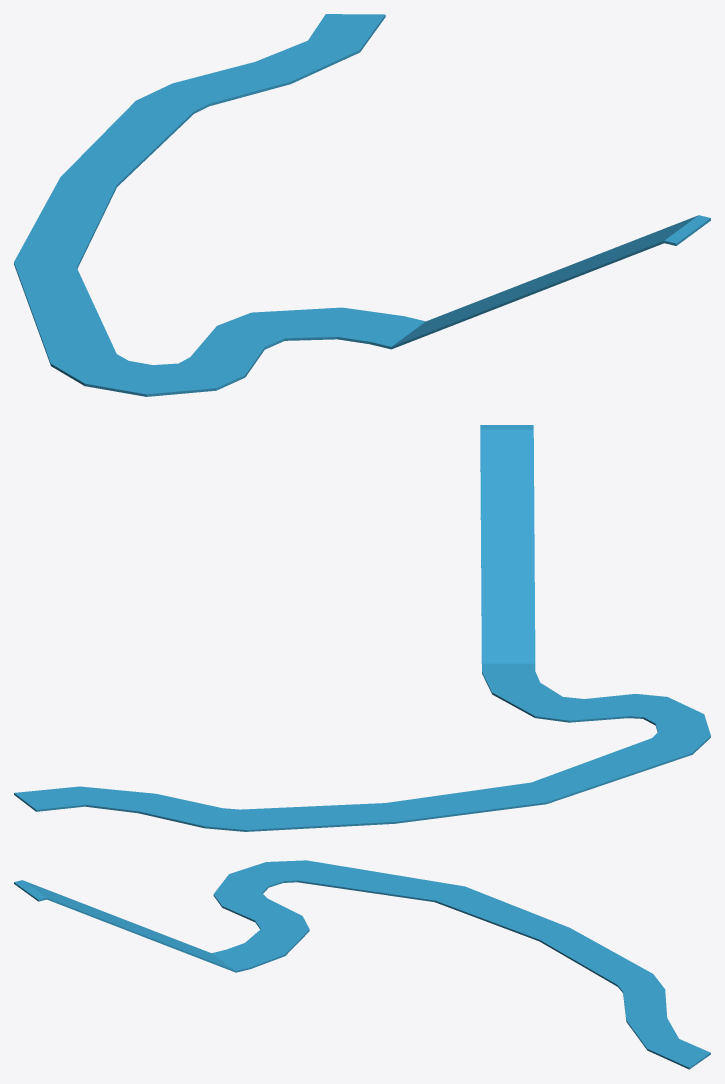
The model's file is BottomLaneSelected.fbx.
The picture shows the model from 3 angles, top to bottom: view 1: azimuth 30°, elevation 25°; view 2: azimuth 150°, elevation 25°; view 3: azimuth 270°, elevation 25°; orthographic projection. The views are drawn at different scales.
Visible parts, largest first — view 1: BottomLaneSelected; view 2: BottomLaneSelected; view 3: BottomLaneSelected.
Part boxes in pixels (x1,y1,x2,y2): BottomLaneSelected: [14, 14, 710, 396]; BottomLaneSelected: [14, 425, 710, 831]; BottomLaneSelected: [14, 860, 710, 1069].
Bounding box in the file's own units: 2522 × 690 × 3580.
